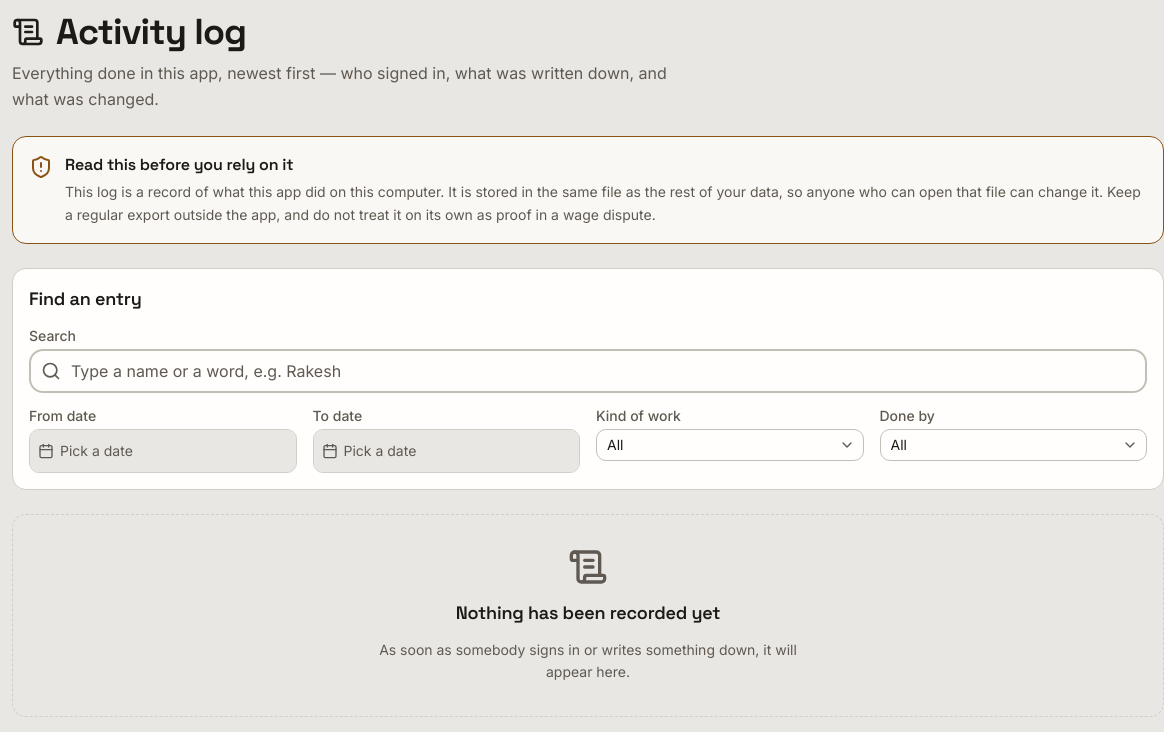
Test: activity log viewer › distinguishes an empty log from an empty search
Check: the heading "Nothing has been recorded yet" is shown, box [456,598,720,626]
Type "zzz" into the field labelled "Search" at (588, 370), box [29,348,1147,392]
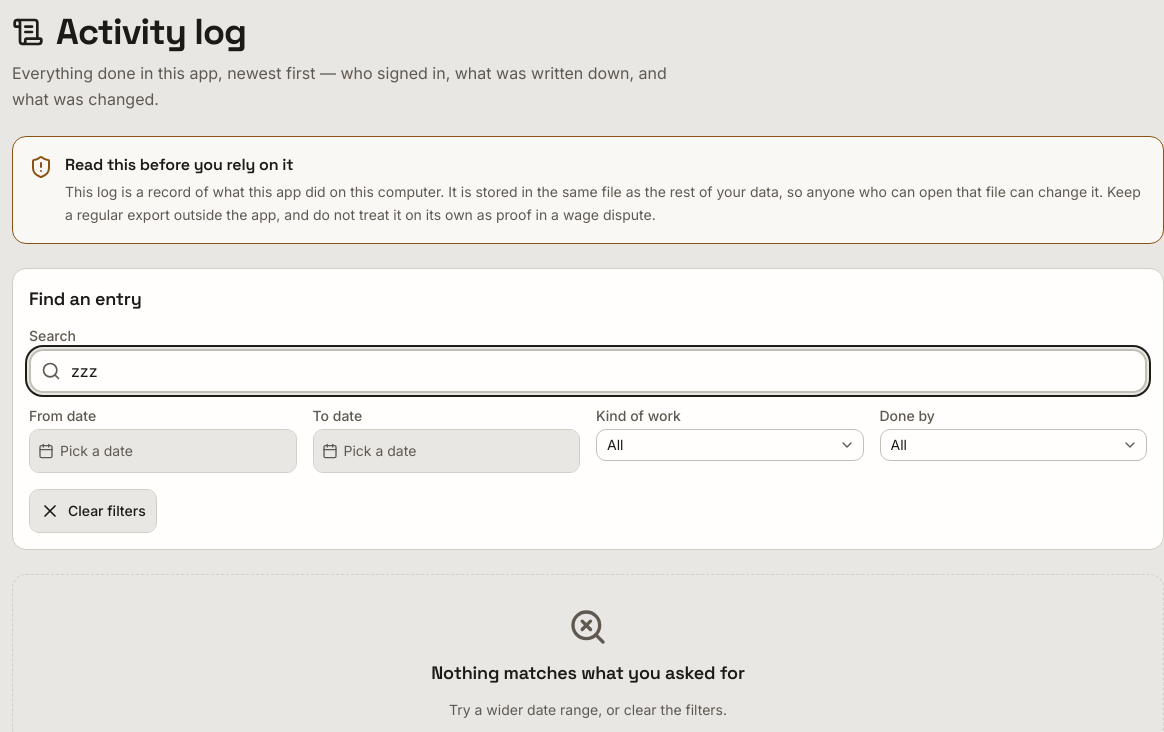
Check: the heading "Nothing matches what you asked for" is shown, box [431,658,745,686]
Check: the heading "Nothing has been recorded yet" is gone
